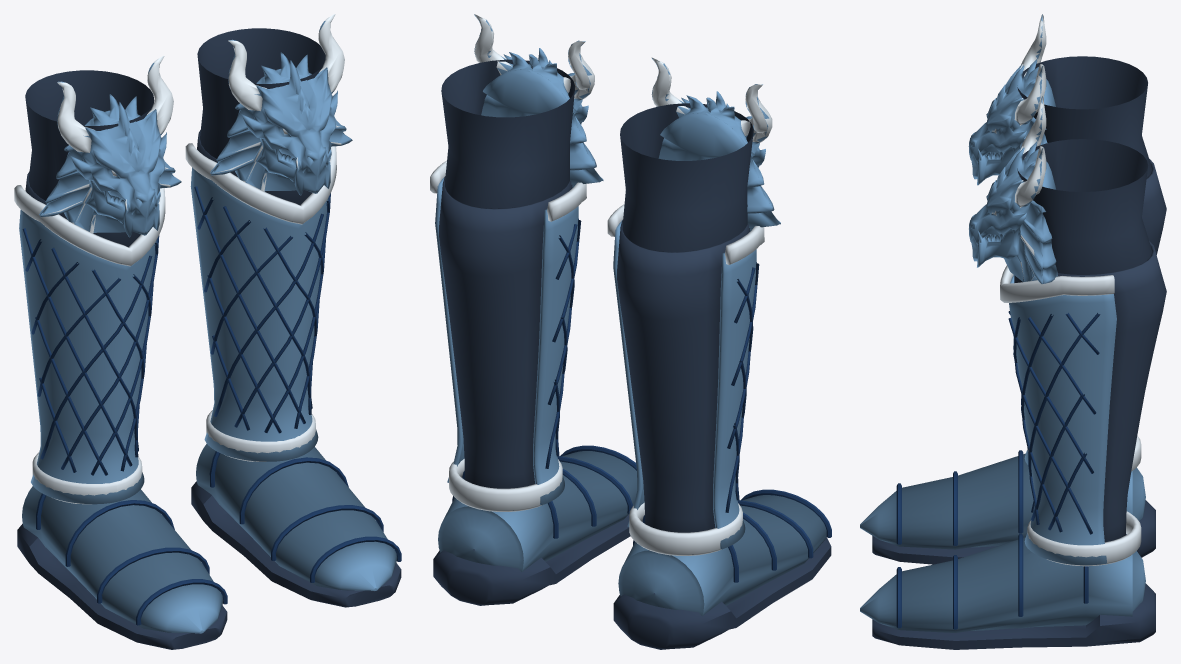
The model's file is f_dragonknight_ice_f.glb.
3 renders of one model, left to right at view 1: azimuth 30°, elevation 25°; view 2: azimuth 150°, elevation 25°; view 3: azimuth 270°, elevation 25°, orthographic. The views are drawn at different scales.
Parts seen in each view (by area): view 1: LegR_Boot, LegL_Boot, LegR_BootFoot, LegL_BootFoot; view 2: LegR_Boot, LegL_Boot, LegR_BootFoot, LegL_BootFoot; view 3: LegL_Boot, LegL_BootFoot, LegR_Boot, LegR_BootFoot.
Boxes of the visible parts, box(x1,y1,x2,y2) form: LegR_Boot: box(14, 56, 181, 504); LegL_Boot: box(185, 14, 352, 461); LegR_BootFoot: box(17, 486, 227, 649); LegL_BootFoot: box(191, 444, 401, 607); LegR_Boot: box(607, 57, 780, 555); LegL_Boot: box(430, 14, 603, 511); LegR_BootFoot: box(613, 489, 831, 649); LegL_BootFoot: box(433, 445, 637, 605); LegL_Boot: box(969, 96, 1166, 566); LegL_BootFoot: box(860, 533, 1155, 649); LegR_Boot: box(968, 14, 1166, 471); LegR_BootFoot: box(860, 450, 1155, 564).
Size of the model in its own units: 0.3852 by 0.6057 by 0.3324.
